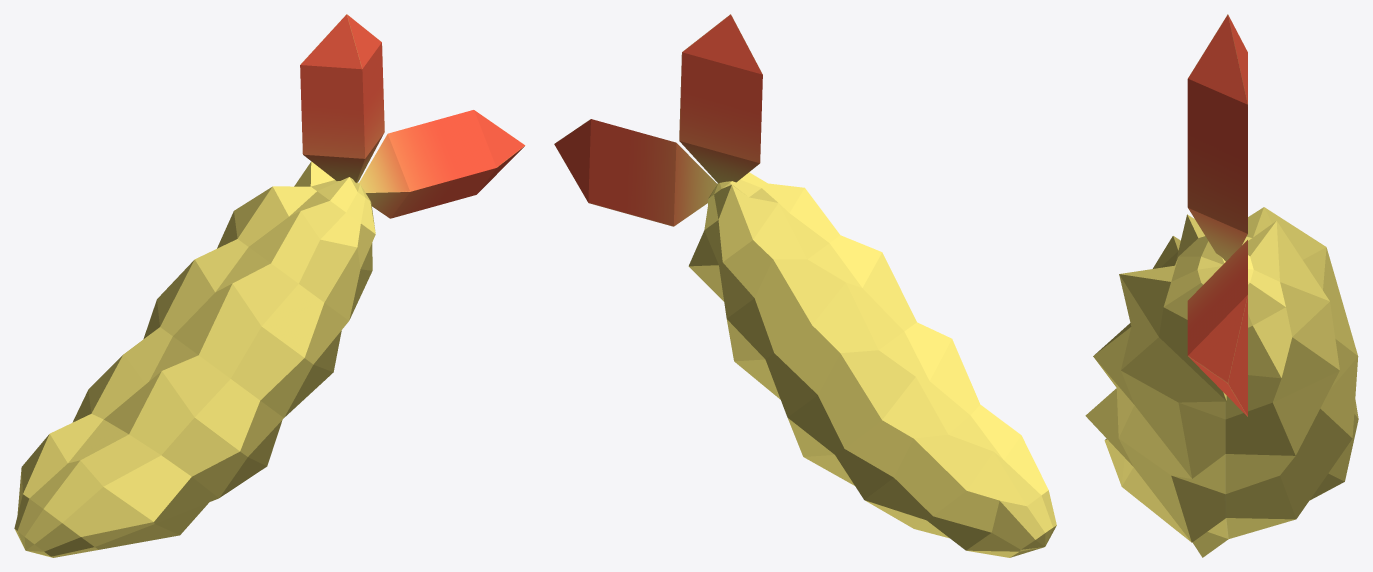
The model's file is ebiten2.fbx.
3 renders of one model, left to right at view 1: azimuth 30°, elevation 25°; view 2: azimuth 150°, elevation 25°; view 3: azimuth 270°, elevation 25°, orthographic. The views are drawn at different scales.
Parts seen in each view (by area): view 1: pSphere4; view 2: pSphere4; view 3: pSphere4.
Part boxes in pixels (box(x1,y1,x2,y2)): pSphere4: box(14, 14, 525, 557); pSphere4: box(554, 14, 1056, 557); pSphere4: box(1085, 14, 1358, 557).
Size of the model in its own units: 1.45 by 1.29 by 0.4807.
Materials: 1 (1 with a texture image).
